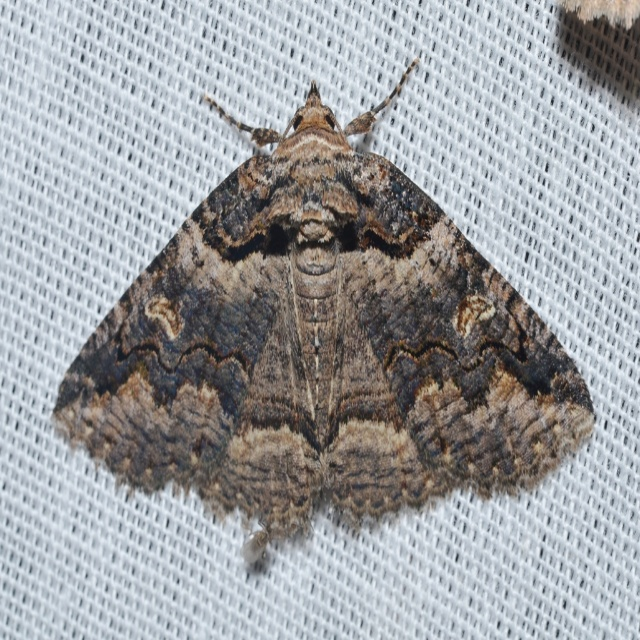Butterfly: (50, 51, 599, 534)
